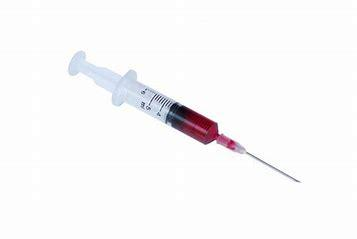Syringe: (55, 34, 308, 186)
